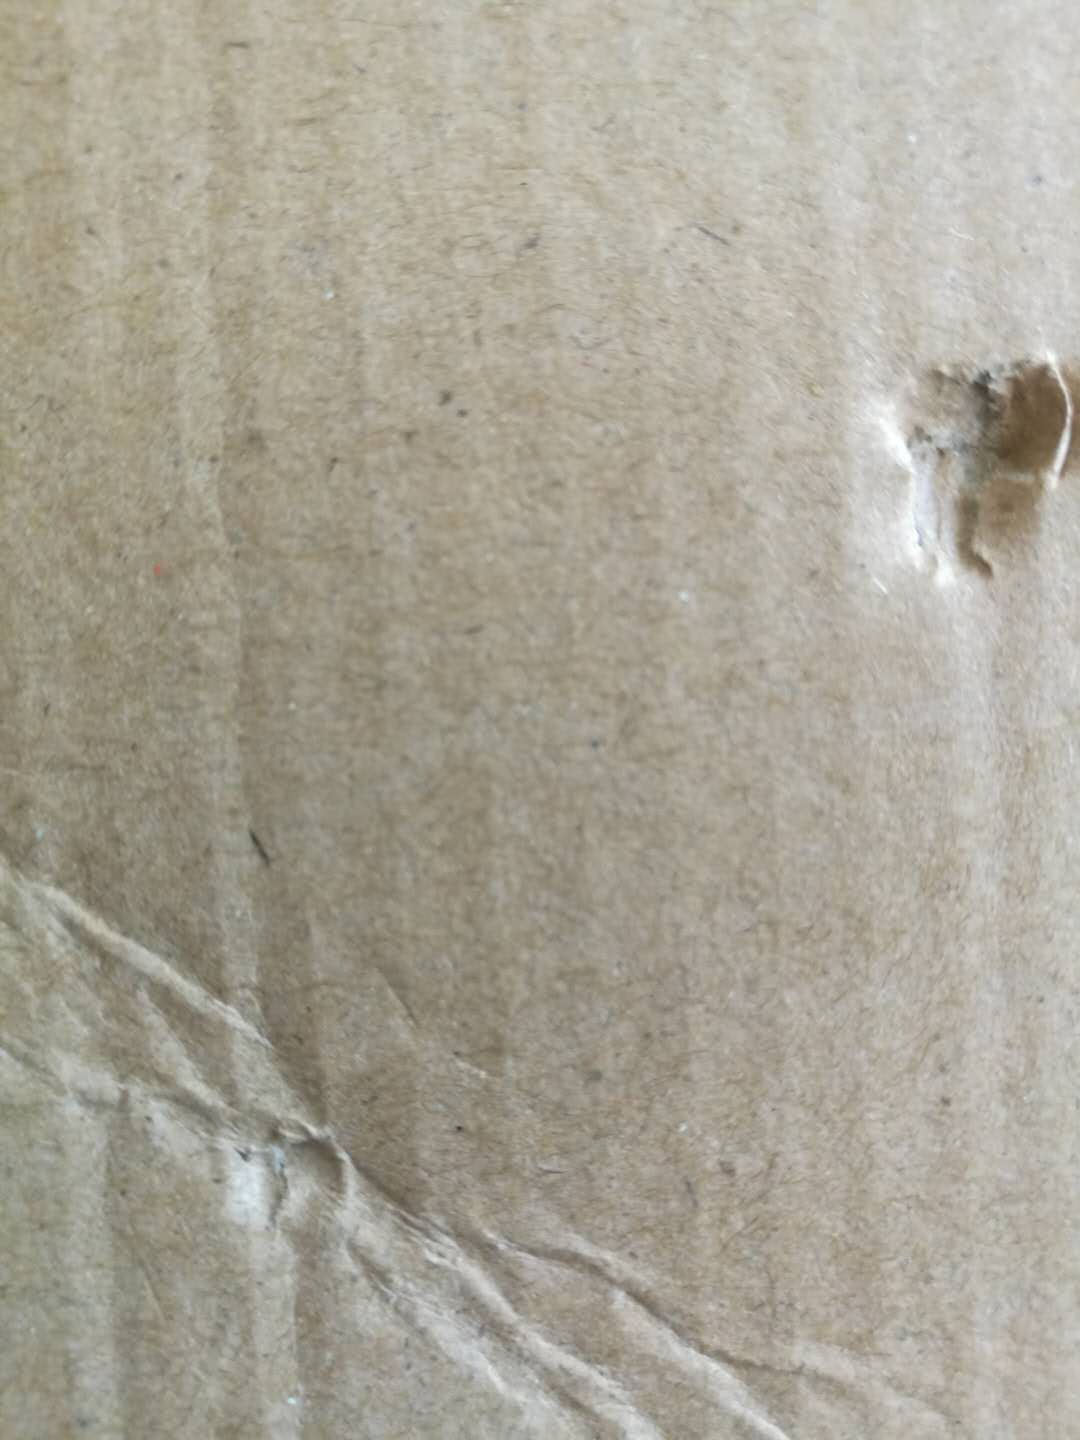defect: (2, 783, 988, 1440), (832, 304, 1080, 615)
